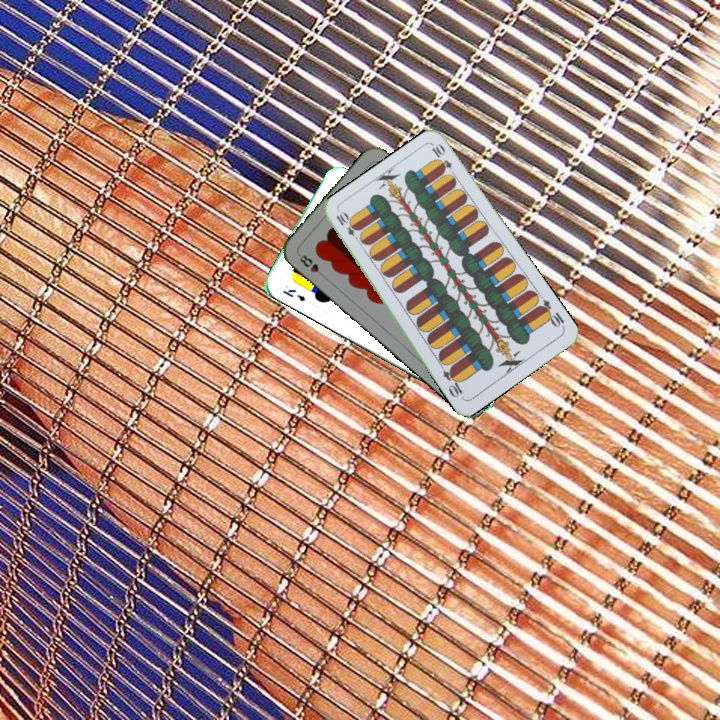E10: (534, 295, 567, 331), (332, 208, 363, 244)
EK: (278, 285, 308, 304)
H8: (294, 250, 328, 280)
